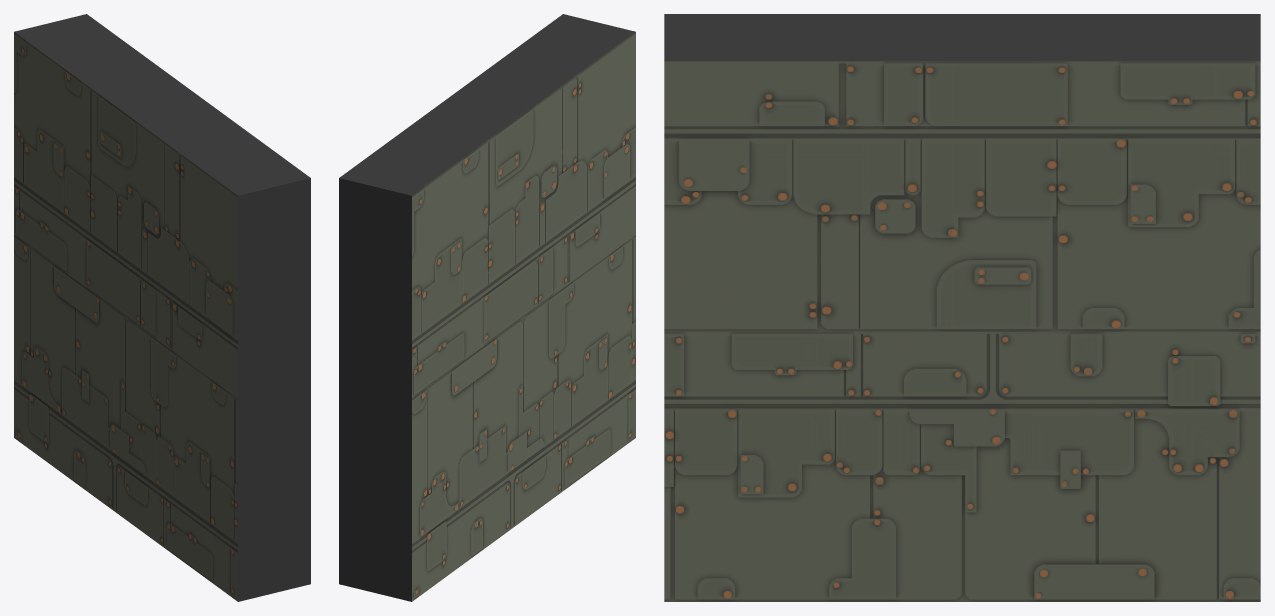
The model's file is Env_Cnt_WallExterior_Top.fbx.
3 views of the same model, side by side, from view 1: azimuth 30°, elevation 25°; view 2: azimuth 150°, elevation 25°; view 3: azimuth 270°, elevation 25° (orthographic). The views are drawn at different scales.
Visible parts, largest first — view 1: Wall_Exterior_Top, Wall_Exterior; view 2: Wall_Exterior_Top, Wall_Exterior; view 3: Wall_Exterior_Top, Wall_Exterior.
Part boxes in pixels (x1=…): Wall_Exterior_Top: x1=14, y1=14, x2=310, y2=398; Wall_Exterior: x1=14, y1=235, x2=310, y2=601; Wall_Exterior_Top: x1=339, y1=14, x2=635, y2=398; Wall_Exterior: x1=339, y1=235, x2=635, y2=601; Wall_Exterior_Top: x1=664, y1=14, x2=1260, y2=331; Wall_Exterior: x1=664, y1=331, x2=1260, y2=601.
Size of the model in its own units: 37.5 by 200 by 200.
